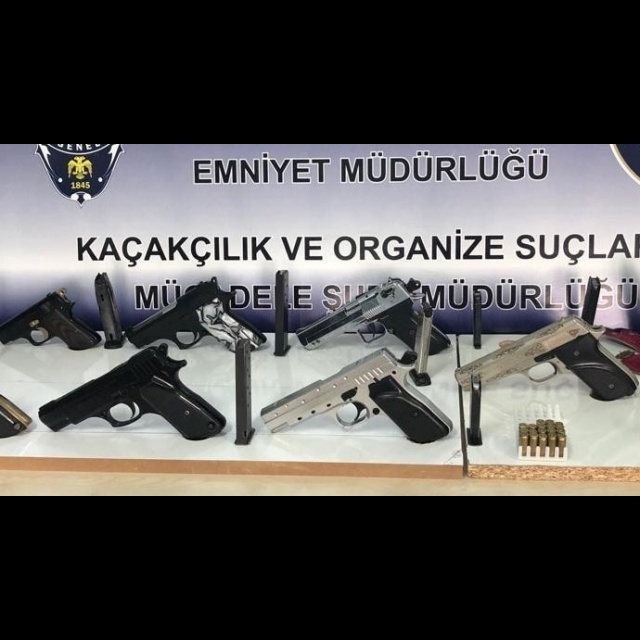SILAH: (264, 343, 455, 452), (33, 342, 229, 447), (453, 303, 640, 410)
